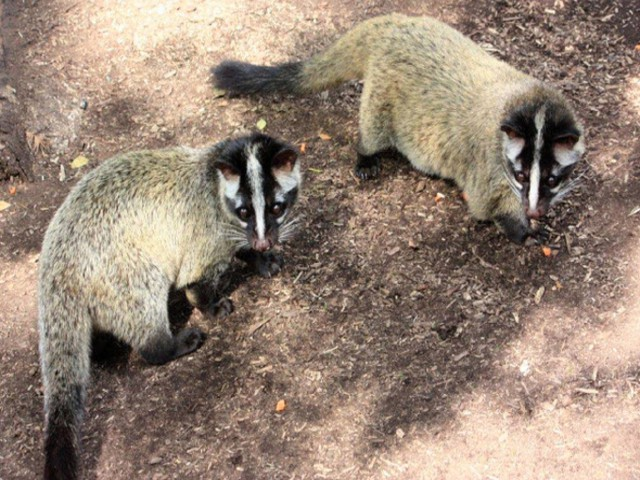civet: (37, 131, 303, 457), (209, 16, 582, 236)
